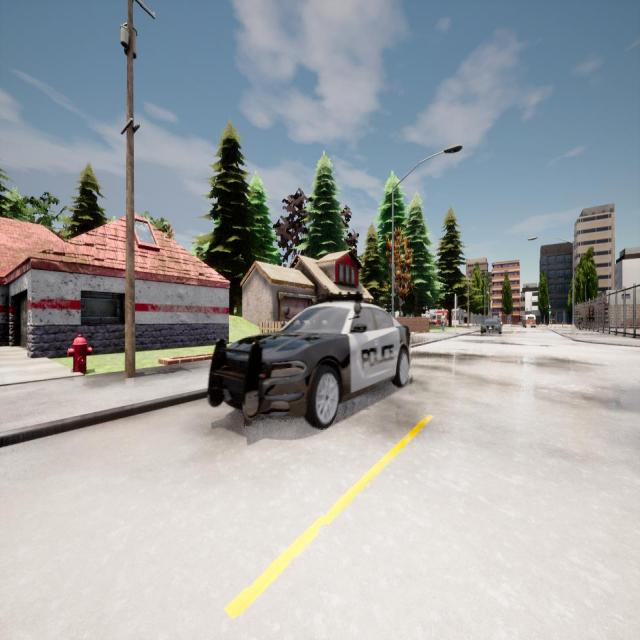Pedestrian: (440, 312, 446, 330), (577, 313, 583, 329)
Vehicle: (207, 301, 409, 428), (481, 318, 501, 335), (523, 314, 536, 328)
traffic_light: (456, 297, 458, 309), (549, 307, 551, 315)
